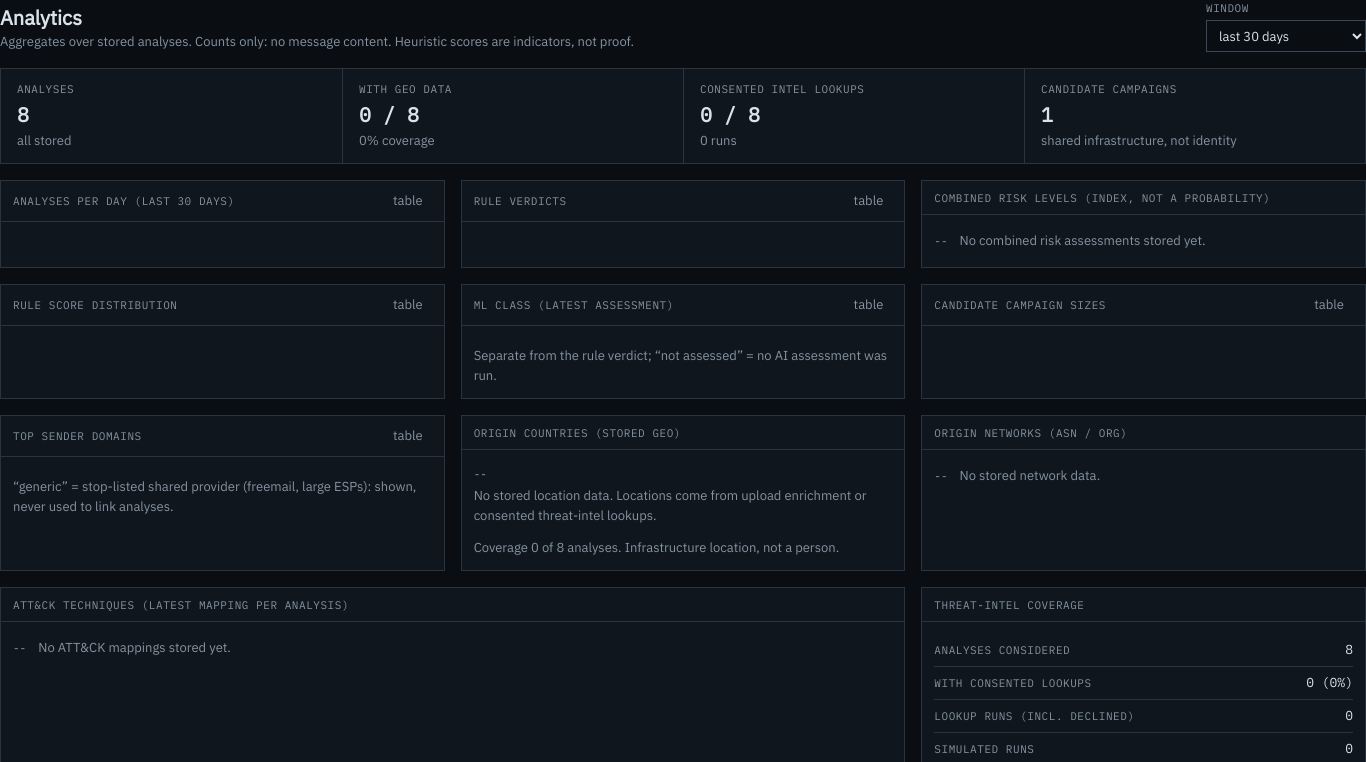
Analytics page (Plotly mocked) › empty charts show one line; window selector refetches
The image size is (1366, 762).
Expected: the text "No ATT&CK mappings stored yet." is shown, x1=38 y1=638 x2=231 y2=658
Expected: the text "No stored location data" is shown, x1=474 y1=487 x2=866 y2=524
Select "last 7 days" in the dropdown named "Analytics window" at coordinates (1286, 36), box x1=1206 y1=20 x2=1365 y2=52
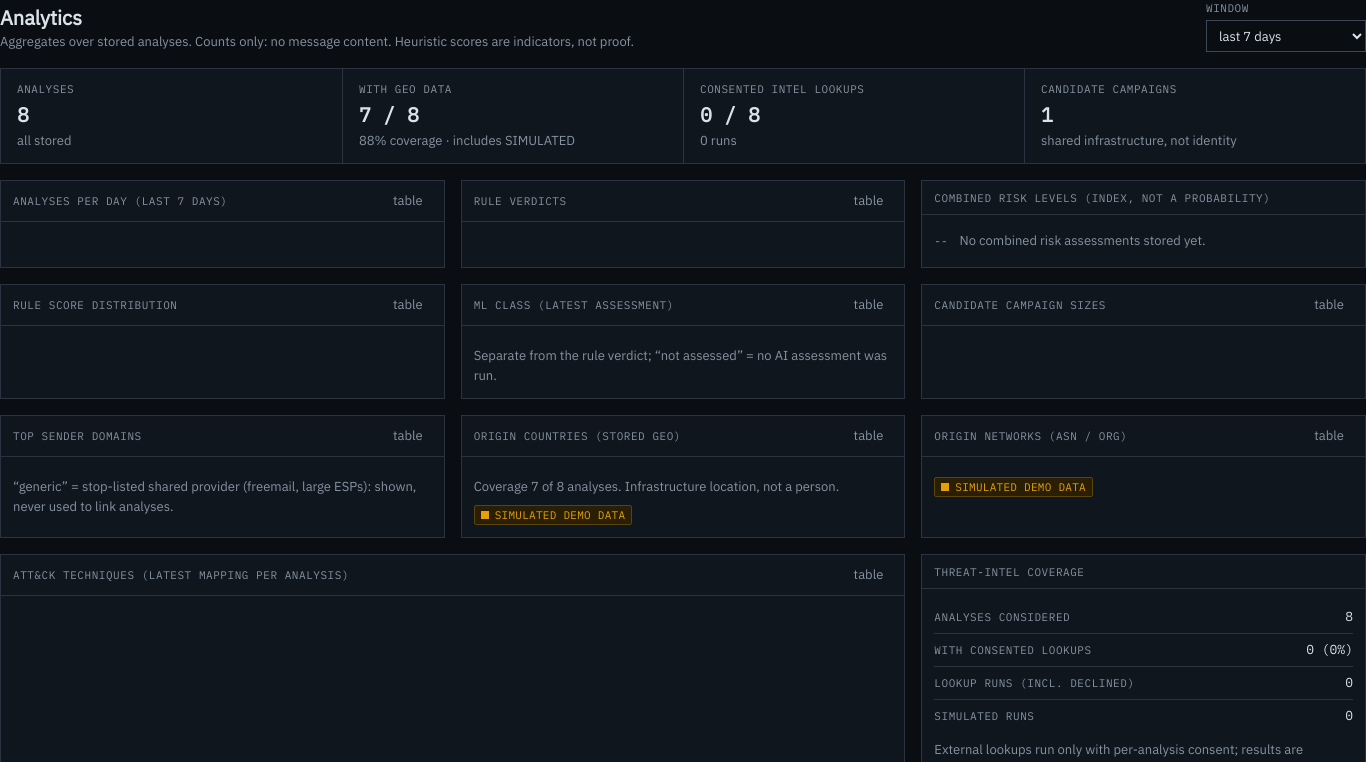
Expected: the heading "Analyses per day (last 7 days)" is shown, x1=13 y1=193 x2=228 y2=209
